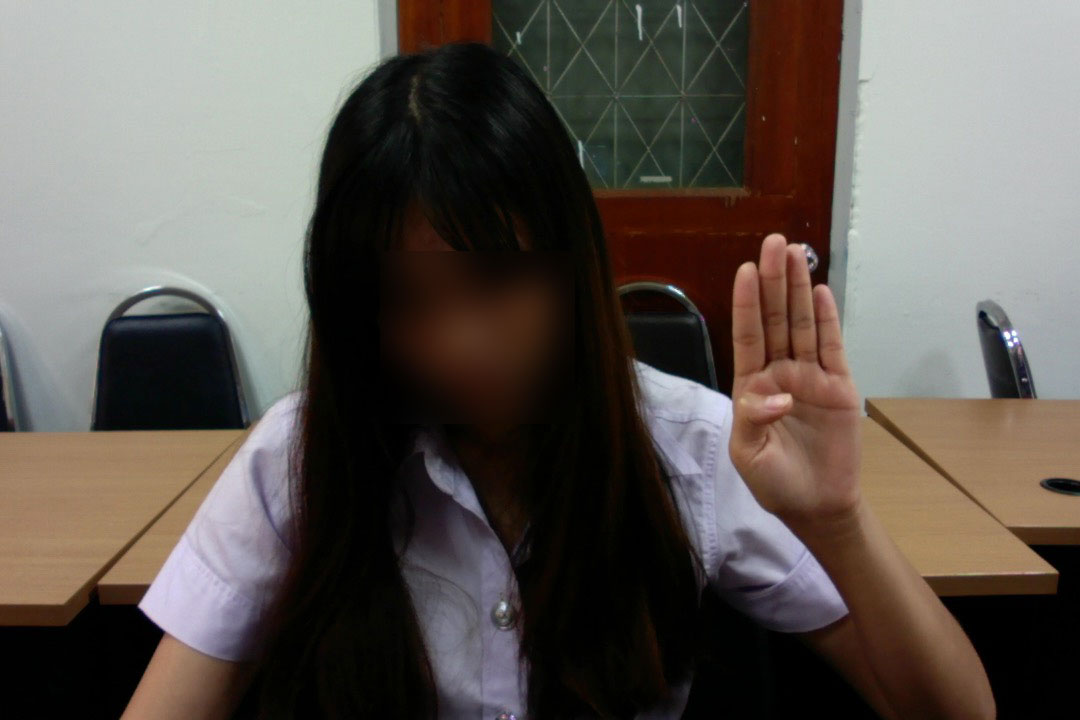bor: (725, 226, 874, 536)
